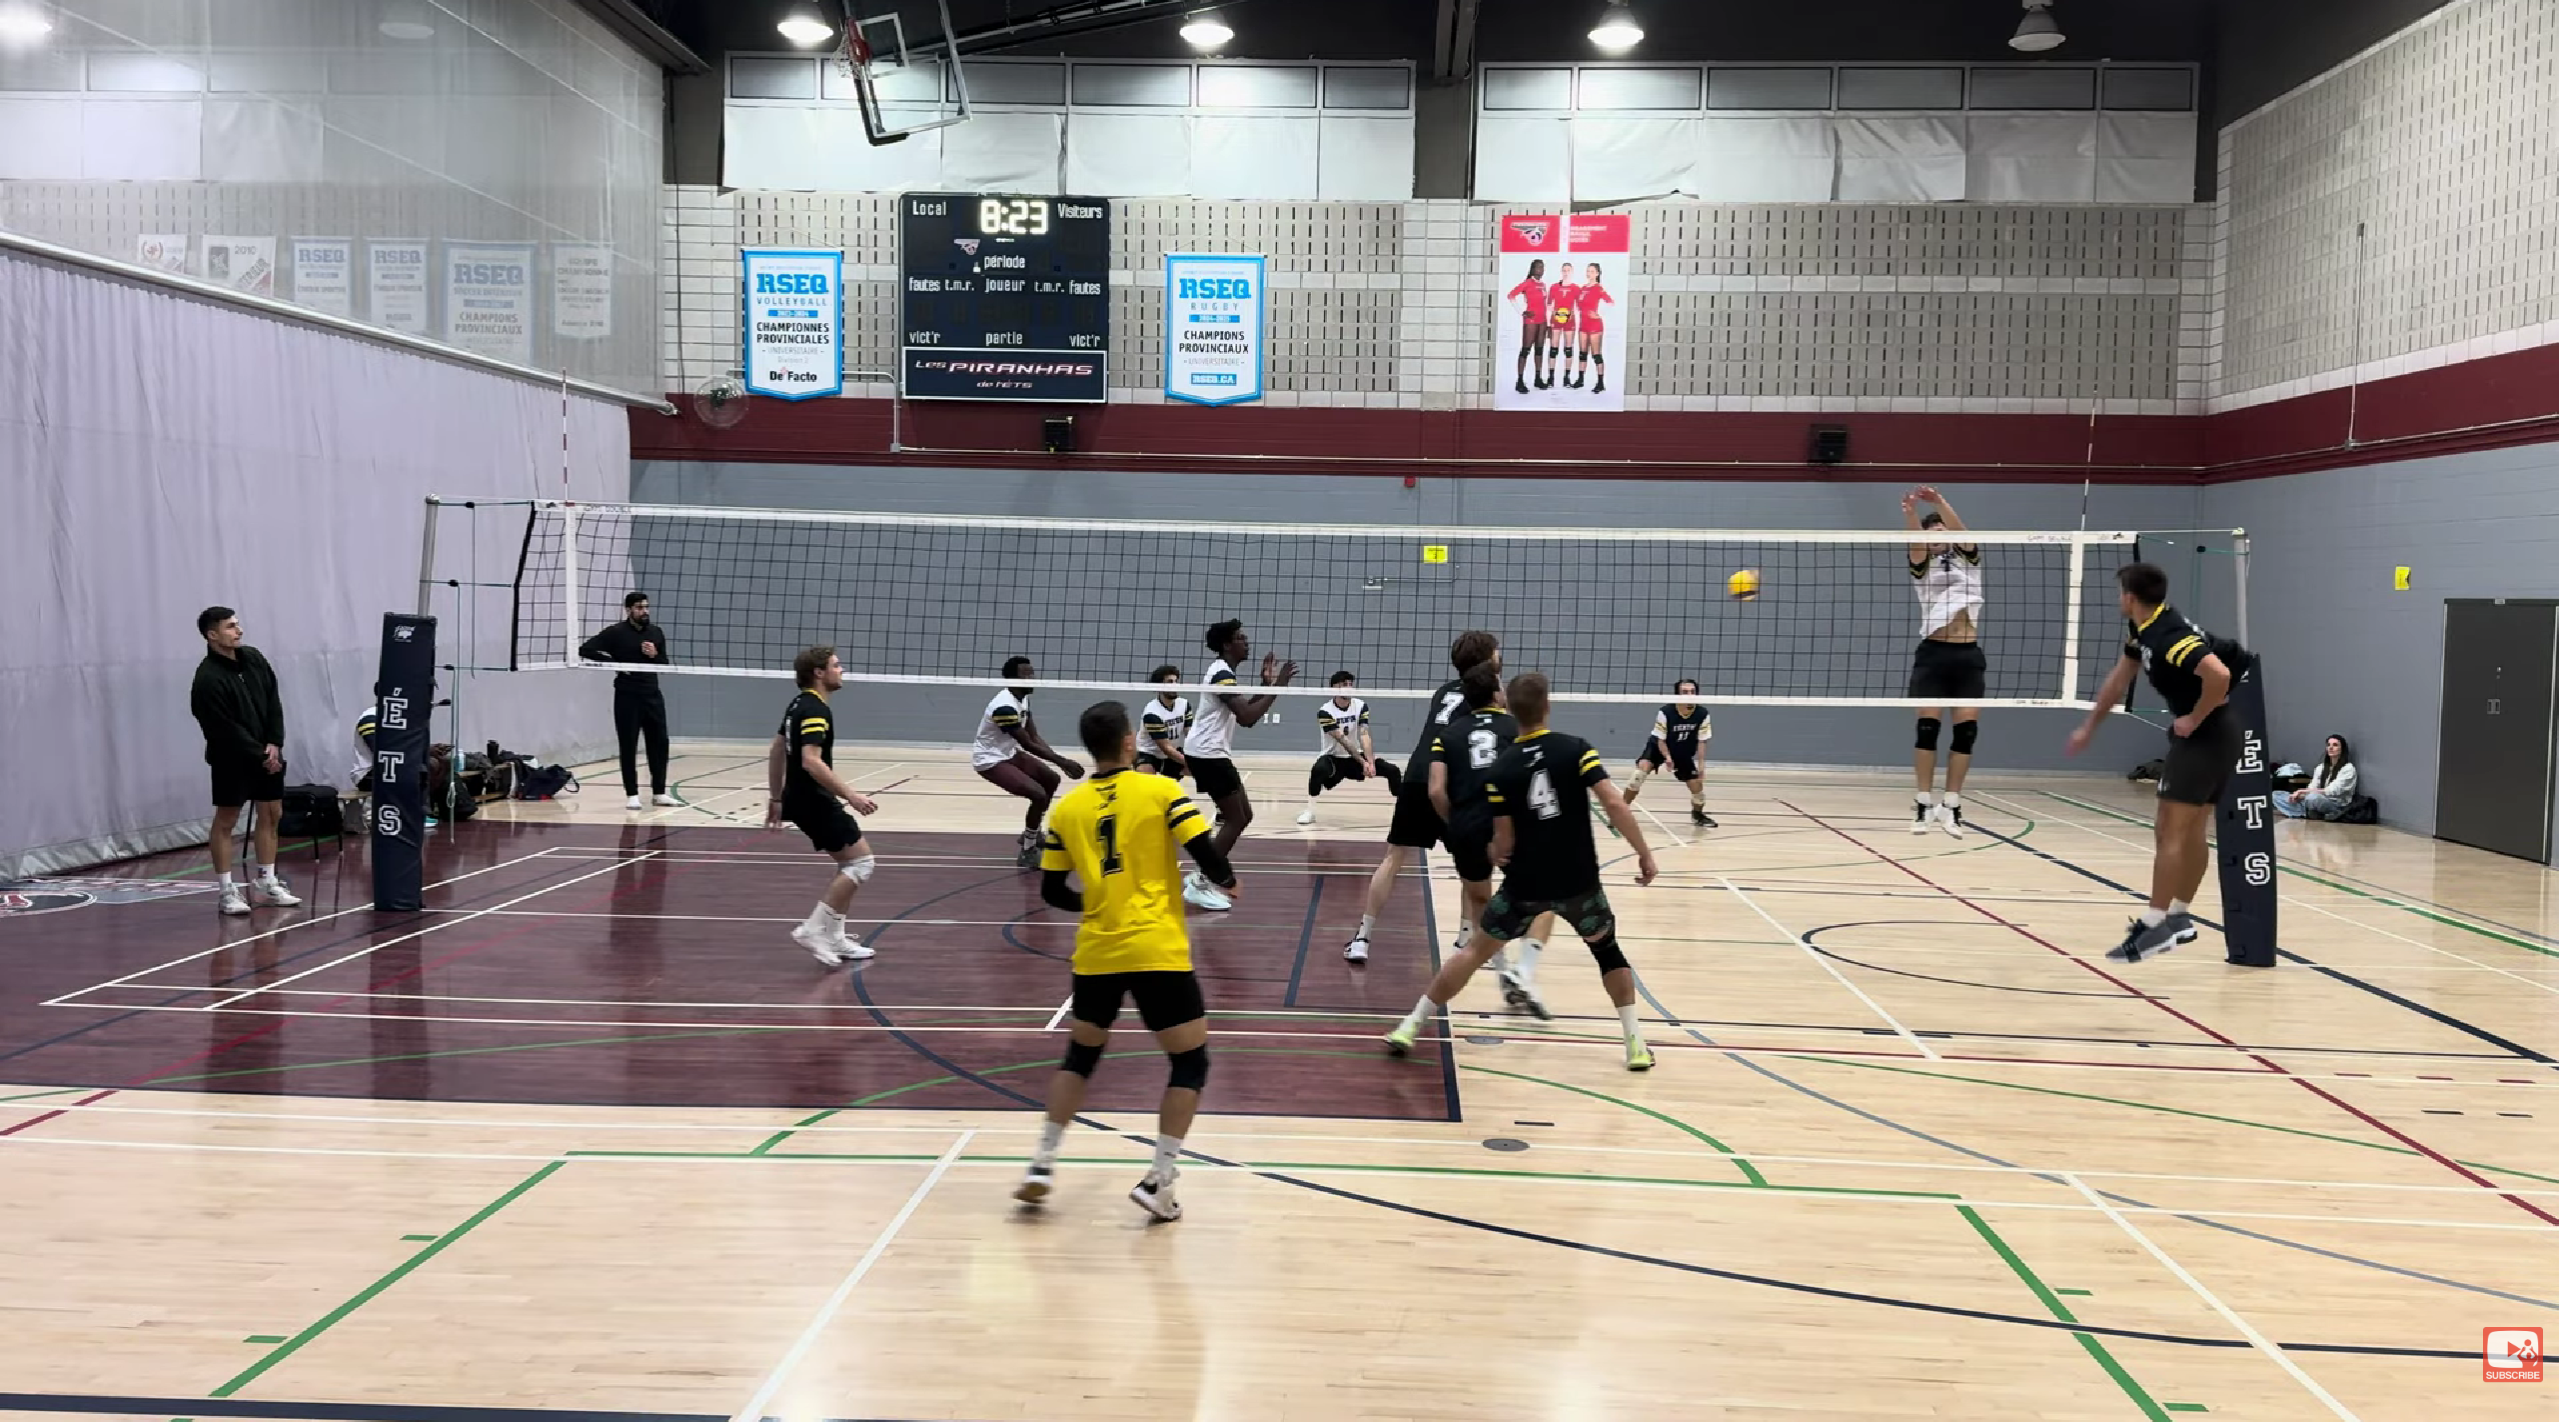Ball: (1728, 569, 1761, 602)
